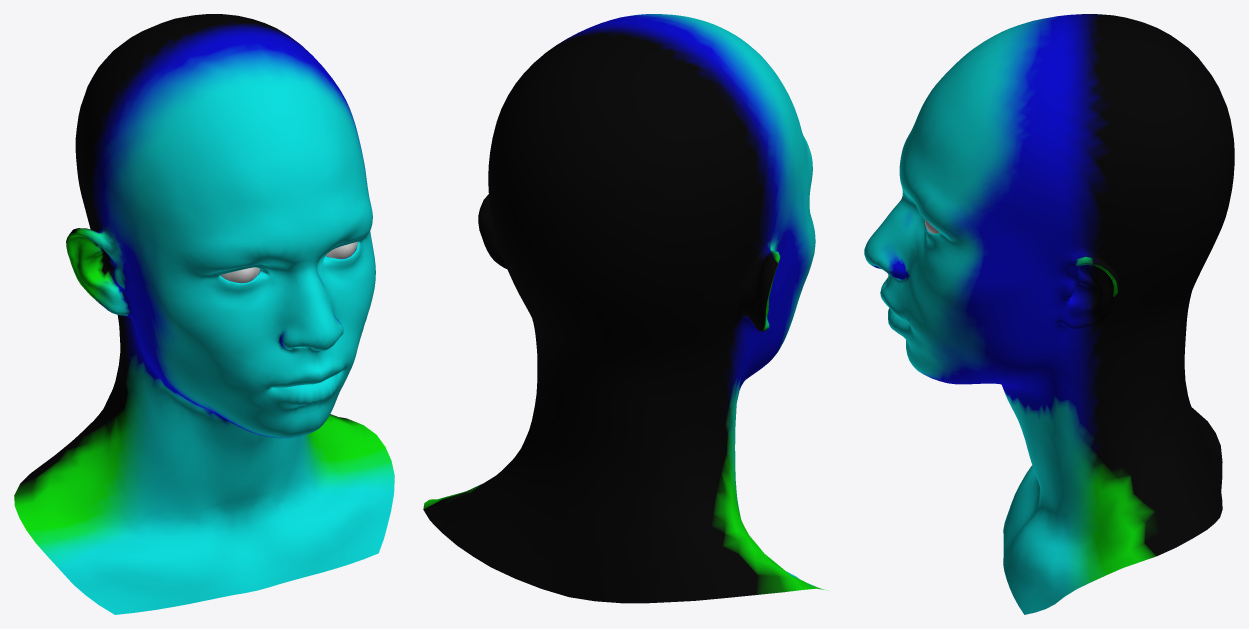
File: sable.glb
3 views of the same model, side by side, from view 1: azimuth 30°, elevation 25°; view 2: azimuth 150°, elevation 25°; view 3: azimuth 270°, elevation 25° (orthographic). The views are drawn at different scales.
Visible parts, largest first — view 1: skin; view 2: skin; view 3: skin.
Boxes of the visible parts, x1,y1,x2,y2 form: skin: [14, 14, 394, 614]; skin: [423, 14, 826, 603]; skin: [864, 14, 1234, 614].
Size of the model in its own units: 2.39 by 3.38 by 2.16.
